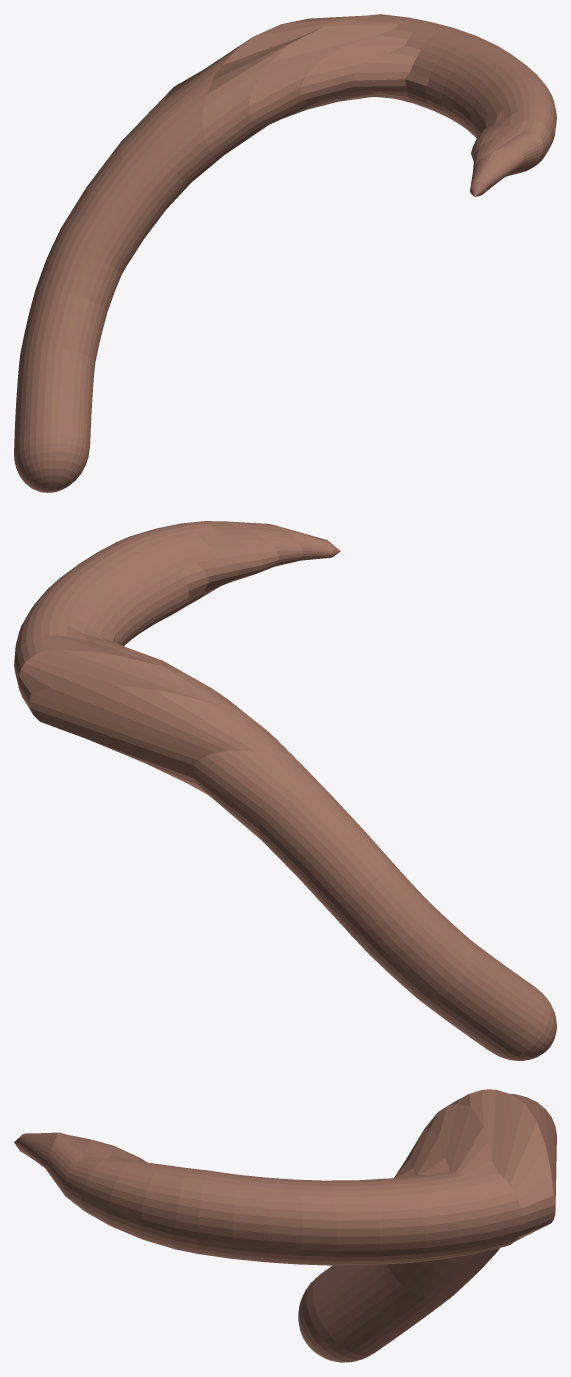
File: Sausage2.glb
The picture shows the model from 3 angles, top to bottom: view 1: azimuth 30°, elevation 25°; view 2: azimuth 150°, elevation 25°; view 3: azimuth 270°, elevation 25°; orthographic projection. The views are drawn at different scales.
Parts seen in each view (by area): view 1: Sphere; view 2: Sphere; view 3: Sphere.
Part boxes in pixels (x1=…): Sphere: x1=14, y1=14, x2=556, y2=492; Sphere: x1=14, y1=521, x2=556, y2=1060; Sphere: x1=14, y1=1089, x2=556, y2=1362.
Bounding box in the file's own units: 14.8 × 10.12 × 11.2.
